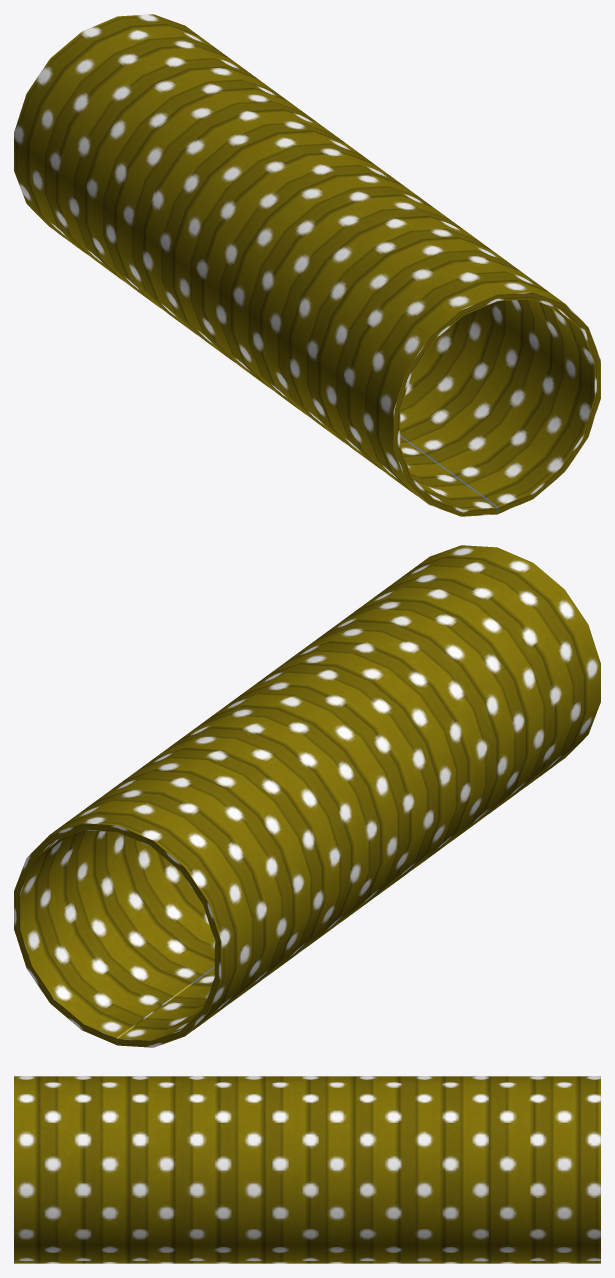
Rendered from Pipe_01.FBX.
The picture shows the model from 3 angles, top to bottom: view 1: azimuth 30°, elevation 25°; view 2: azimuth 150°, elevation 25°; view 3: azimuth 270°, elevation 25°; orthographic projection. The views are drawn at different scales.
Parts seen in each view (by area): view 1: Pipe01_01; view 2: Pipe01_01; view 3: Pipe01_01.
Boxes of the visible parts, box(x1,y1,x2,y2) form: Pipe01_01: box(14, 14, 600, 516); Pipe01_01: box(14, 545, 600, 1047); Pipe01_01: box(14, 1076, 600, 1263).
Bounding box in the file's own units: 28.73 × 29.18 × 91.18.
